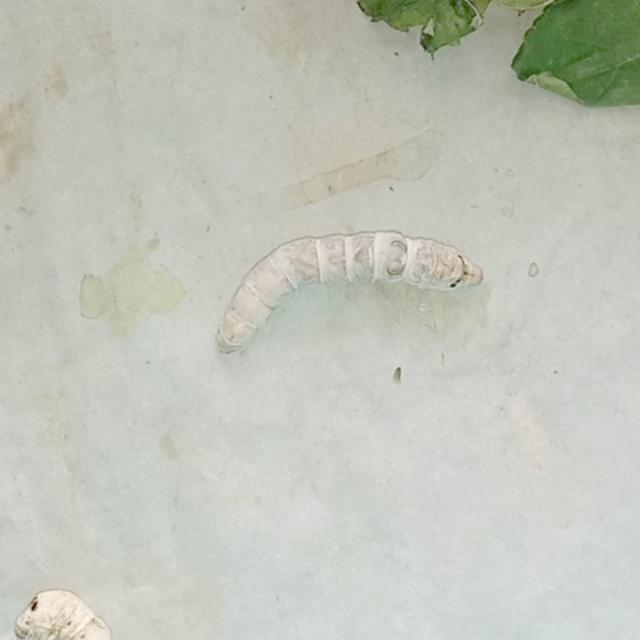Grasserie: (203, 218, 499, 363)
